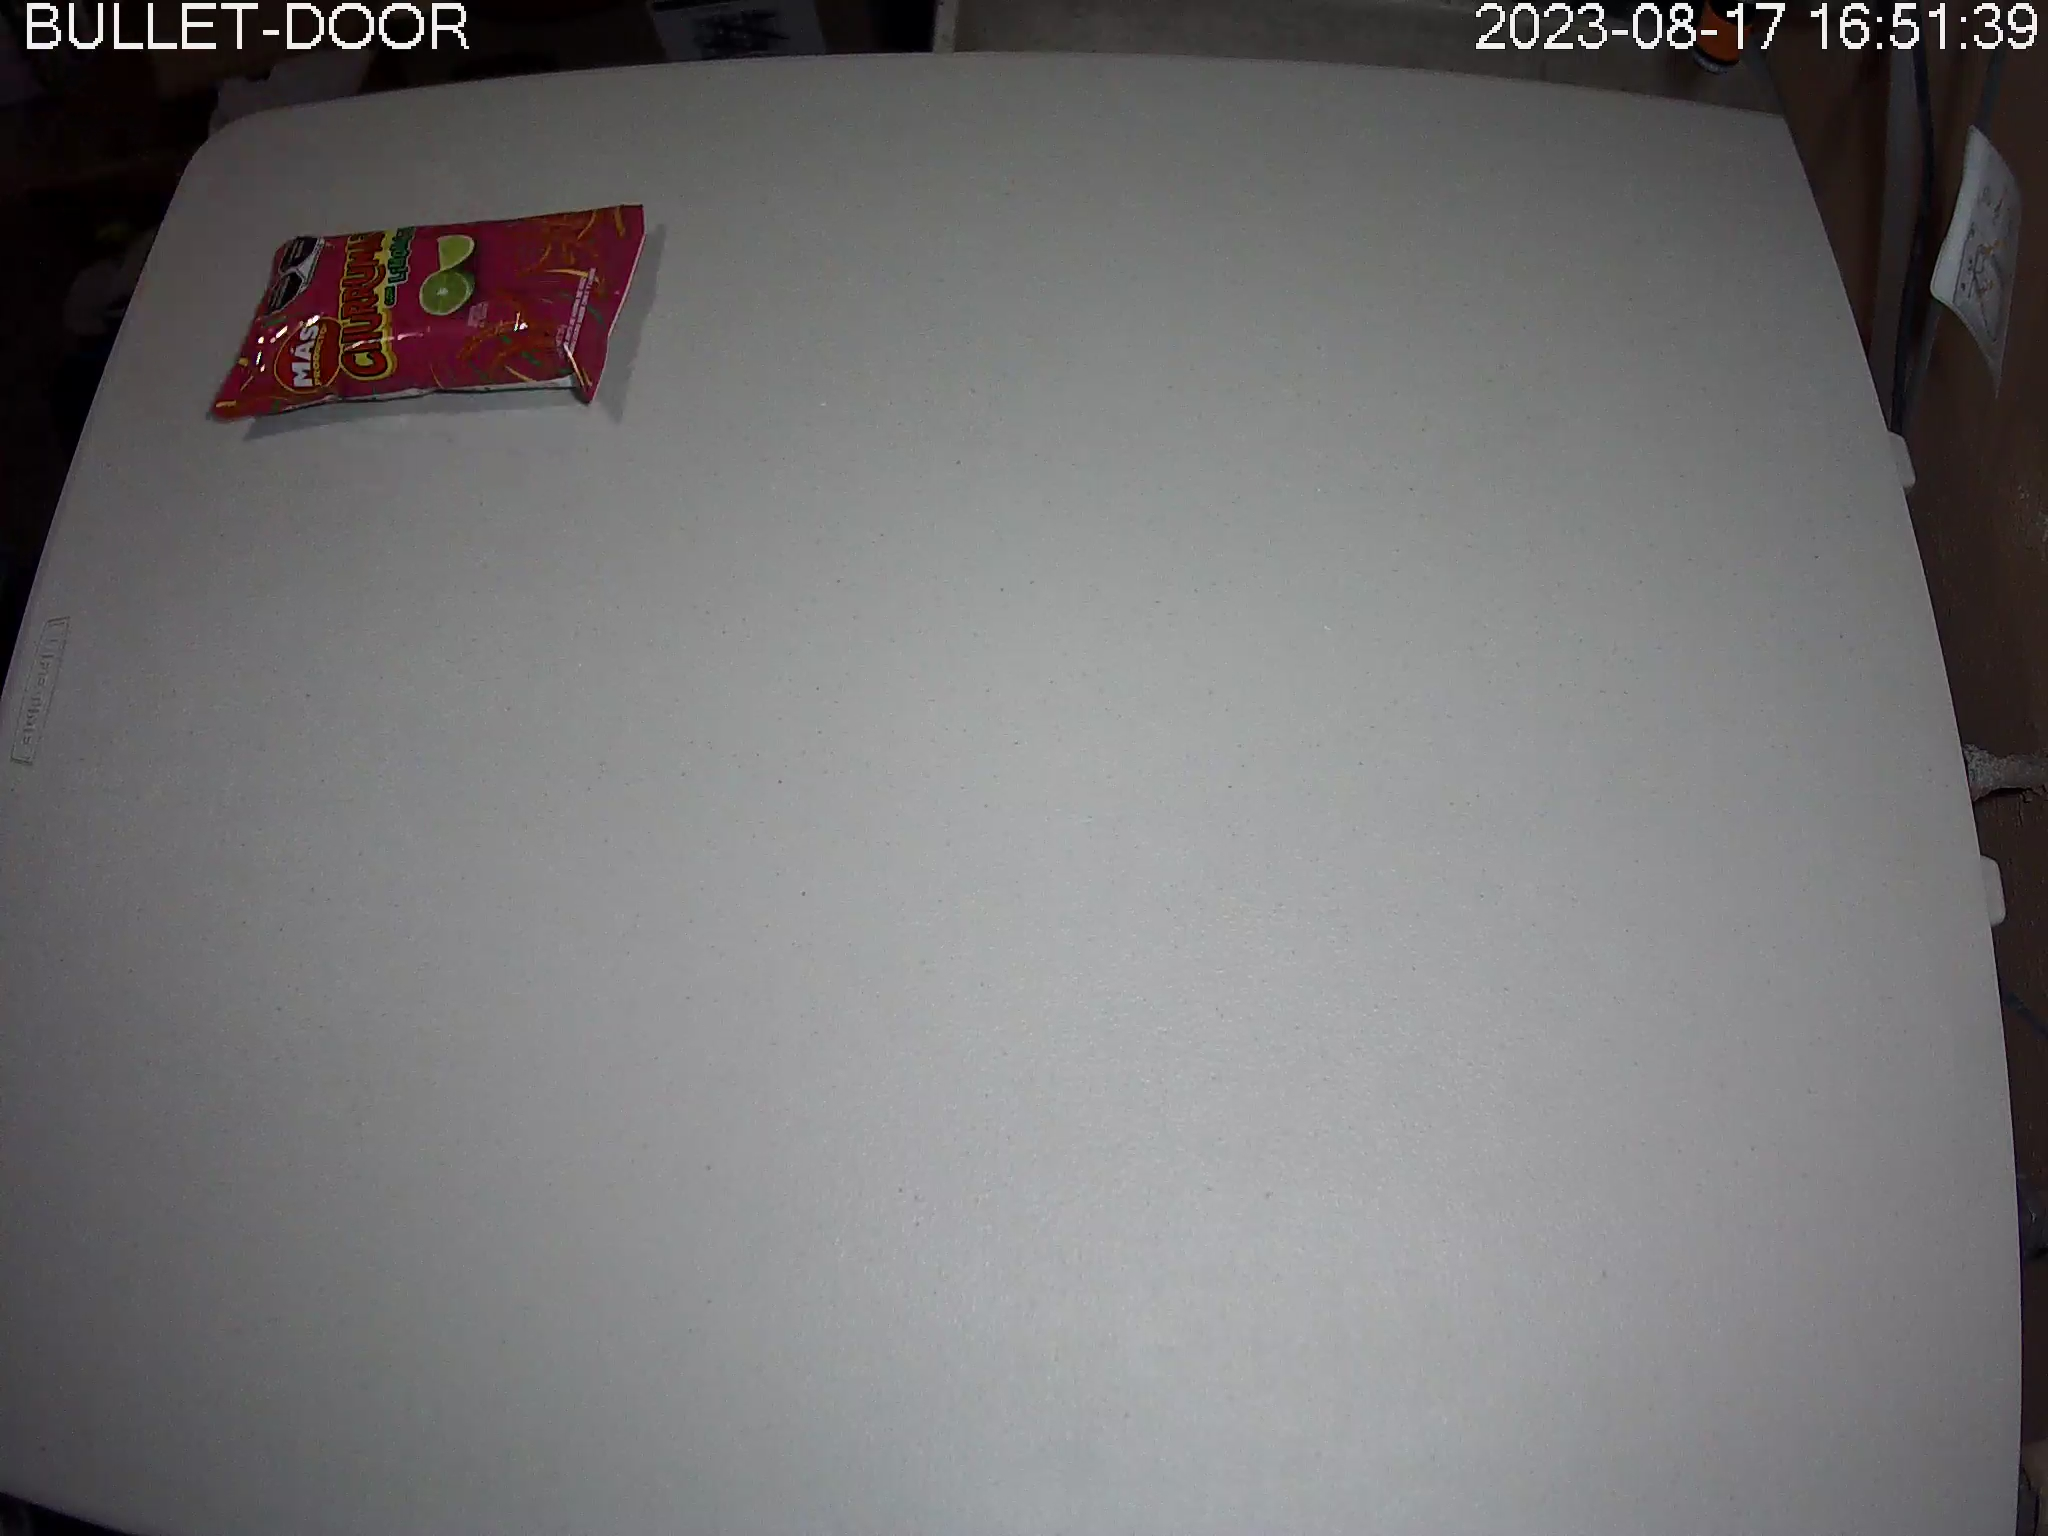Churrumais_70_F: (210, 203, 647, 423)
